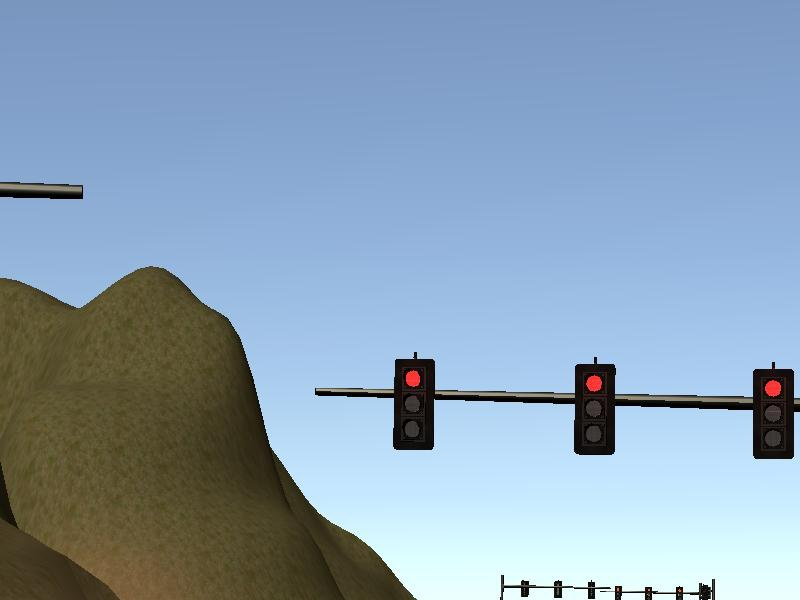red_light: (755, 371, 794, 457), (577, 366, 614, 453), (397, 361, 433, 446)
